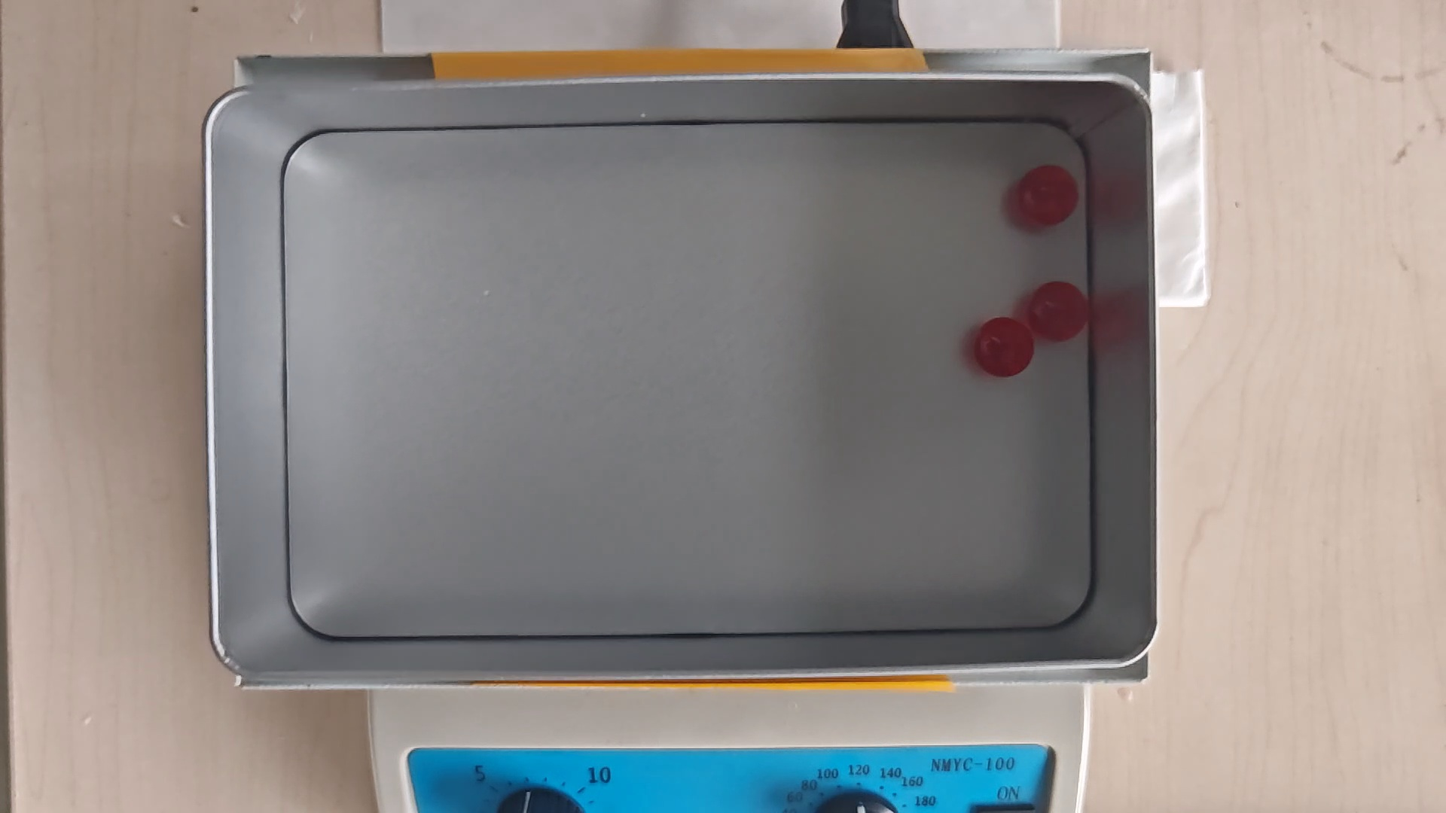ball: (1027, 282, 1090, 343), (975, 317, 1036, 379), (1017, 164, 1078, 224)
container: (285, 121, 1091, 636)
